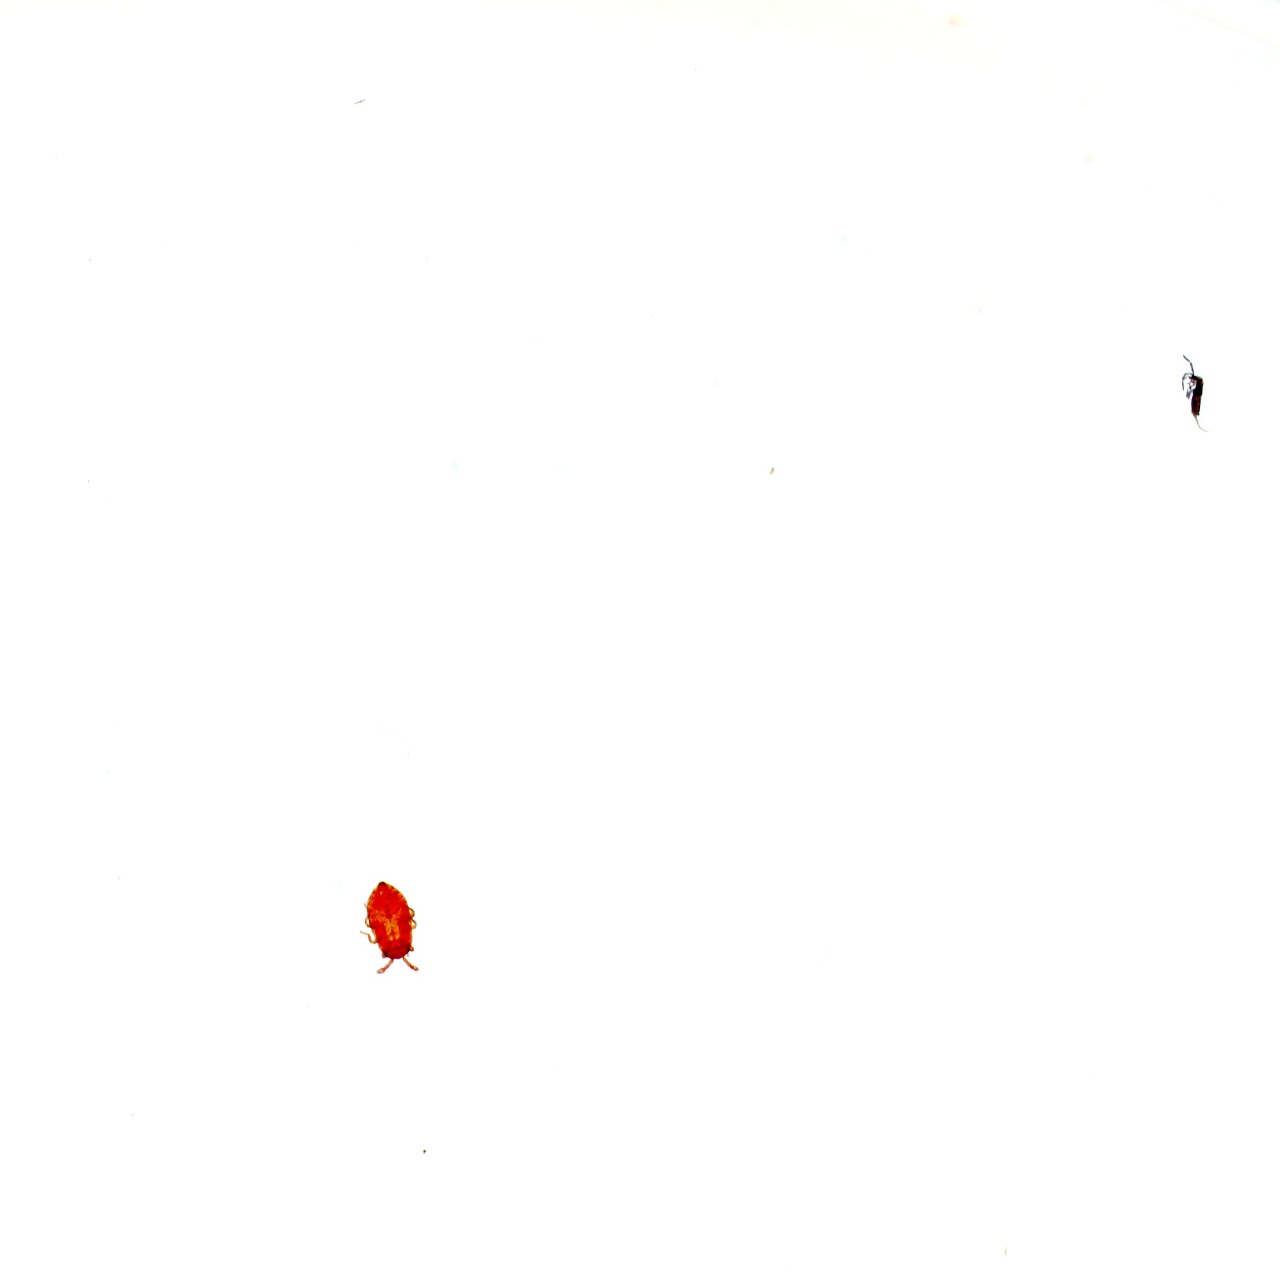arthropod: (358, 880, 421, 976), (1176, 350, 1214, 437)
